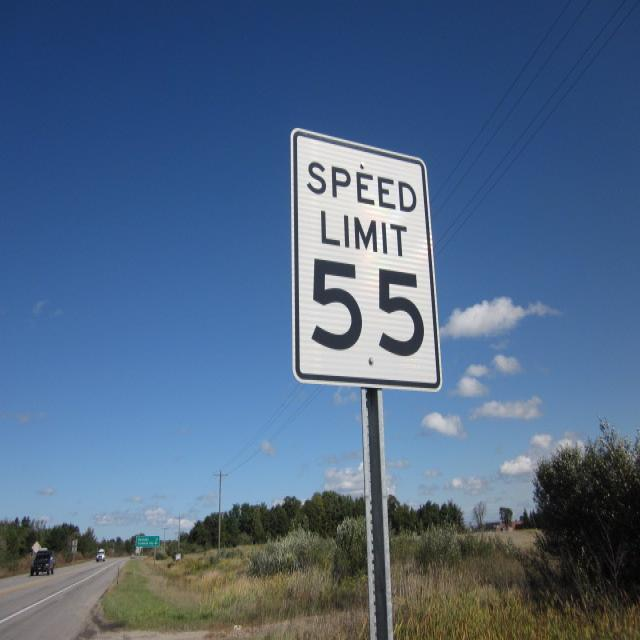regulatory: (289, 128, 443, 391)
